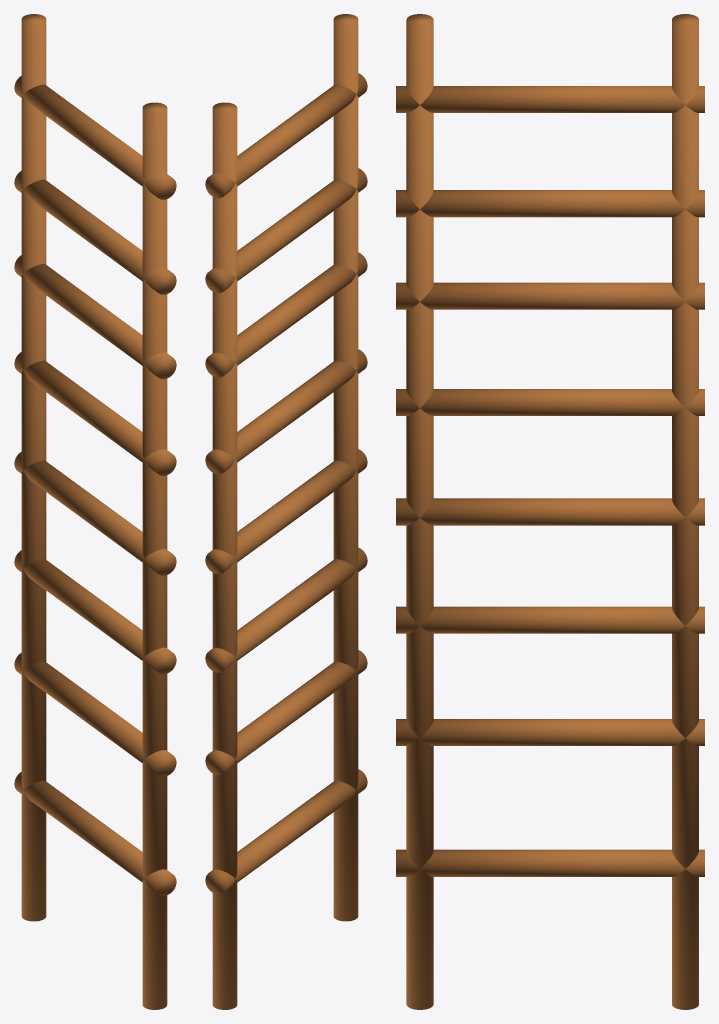
Rendered from merdiven.fbx.
3 renders of one model, left to right at view 1: azimuth 30°, elevation 25°; view 2: azimuth 150°, elevation 25°; view 3: azimuth 270°, elevation 25°, orthographic. The views are drawn at different scales.
Parts seen in each view (by area): view 1: Cylinder_009; view 2: Cylinder_009; view 3: Cylinder_009.
Part boxes in pixels (bbox=[...]): Cylinder_009: bbox=[14, 14, 176, 1009]; Cylinder_009: bbox=[205, 14, 367, 1009]; Cylinder_009: bbox=[396, 14, 704, 1009].
Bounding box in the file's own units: 0.2 × 8 × 2.28.
